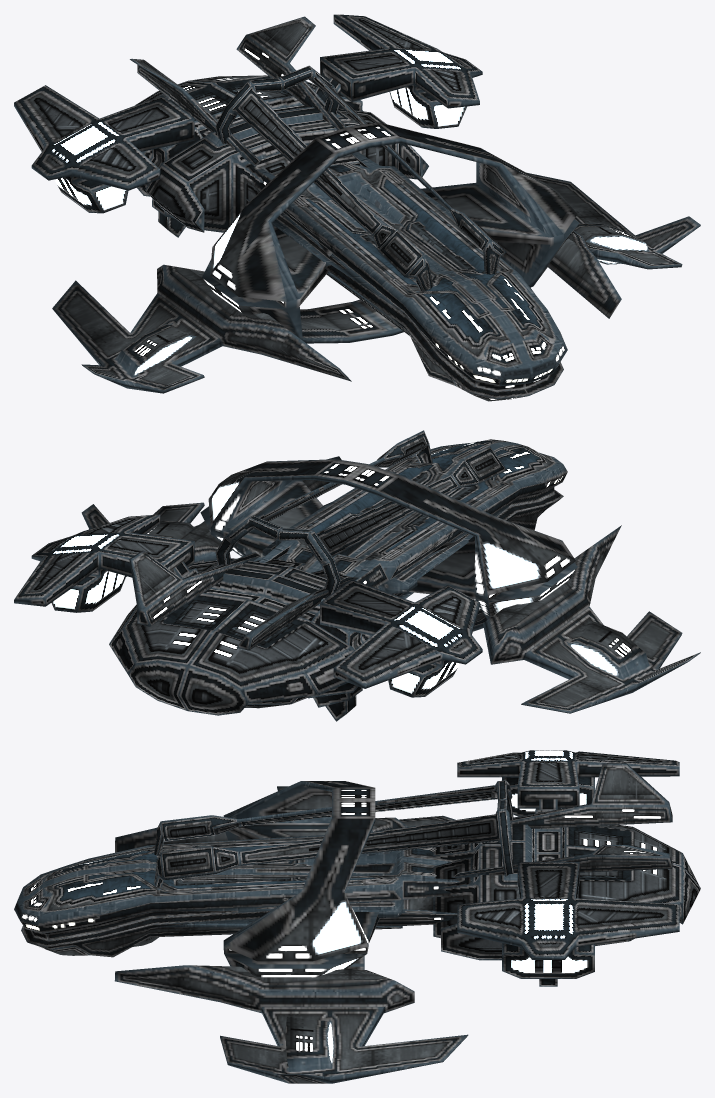
File: blueship.dae
The picture shows the model from 3 angles, top to bottom: view 1: azimuth 30°, elevation 25°; view 2: azimuth 150°, elevation 25°; view 3: azimuth 270°, elevation 25°; orthographic projection. The views are drawn at different scales.
Visible parts, largest first — view 1: AstraStarshipVariantC; view 2: AstraStarshipVariantC; view 3: AstraStarshipVariantC.
Part boxes in pixels (x1,y1,x2,y2): AstraStarshipVariantC: [14, 14, 700, 401]; AstraStarshipVariantC: [14, 430, 700, 721]; AstraStarshipVariantC: [14, 750, 700, 1083].
Bounding box in the file's own units: 19.19 × 19.37 × 5.43.
3 materials, 3 textured.
